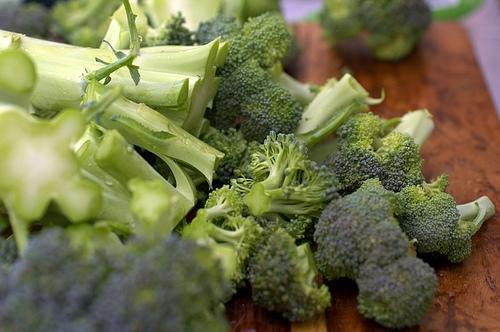broccoli: (0, 0, 229, 141), (0, 225, 232, 332), (82, 73, 225, 206), (314, 185, 438, 328), (1, 103, 104, 225), (242, 131, 339, 241), (216, 11, 322, 108), (95, 130, 196, 228), (240, 72, 370, 144), (326, 110, 436, 190), (393, 184, 496, 264), (246, 226, 331, 322), (318, 0, 432, 60), (210, 59, 280, 136), (46, 0, 122, 49), (202, 127, 247, 184), (196, 184, 250, 231), (0, 1, 52, 41), (146, 10, 199, 46), (196, 13, 244, 46)
